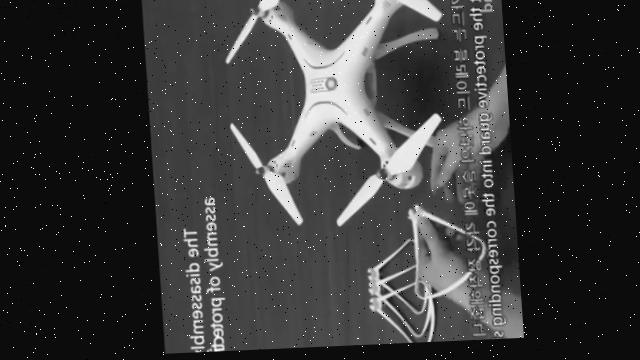drone: (215, 0, 459, 235)
